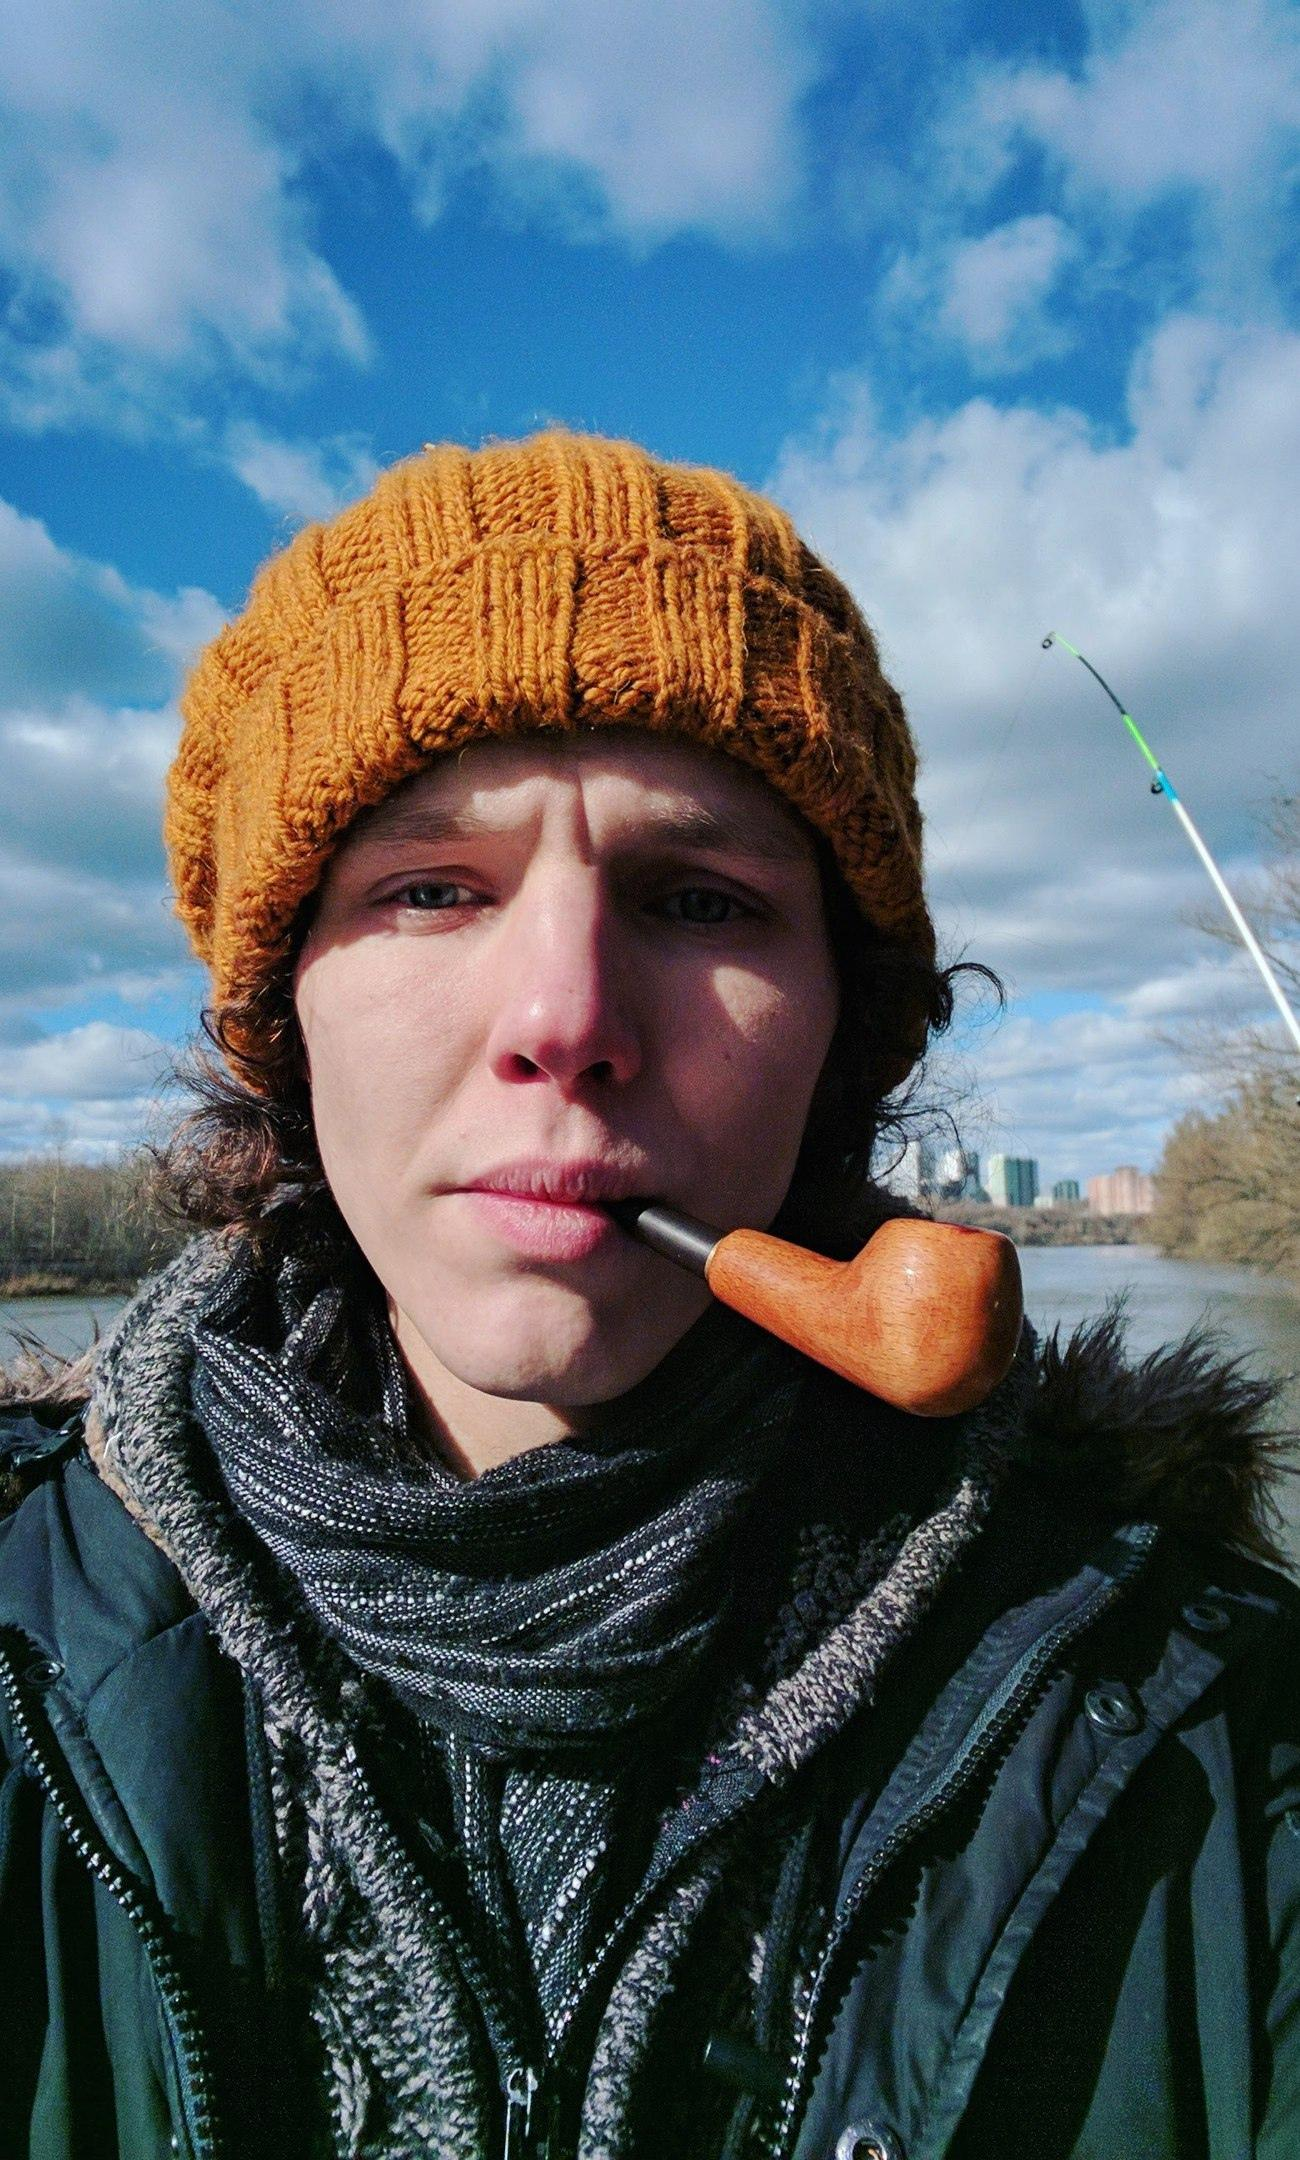trubka: (621, 1202, 1021, 1416)
